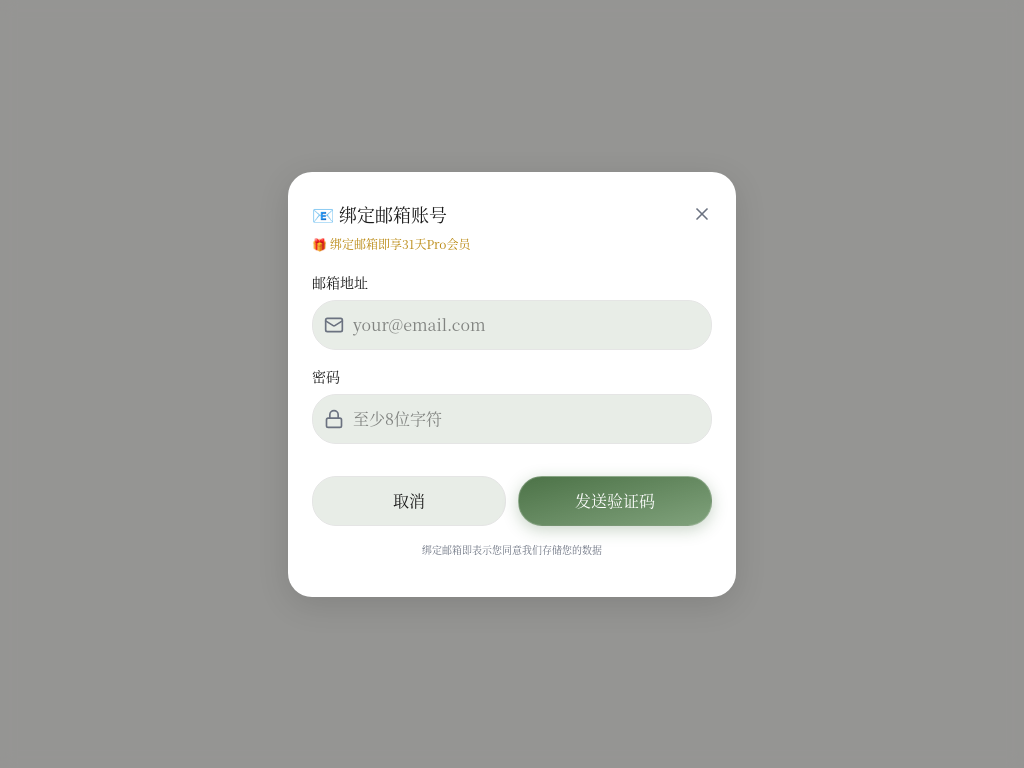
Test: AuthModal — 注册步骤 1：密码强度验证 › 密码无数字 → 显示「密码必须包含数字」
Step 1. Type "test@test.com" into the field with placeholder "your@email.com" → (512, 324), box [312, 300, 712, 350]
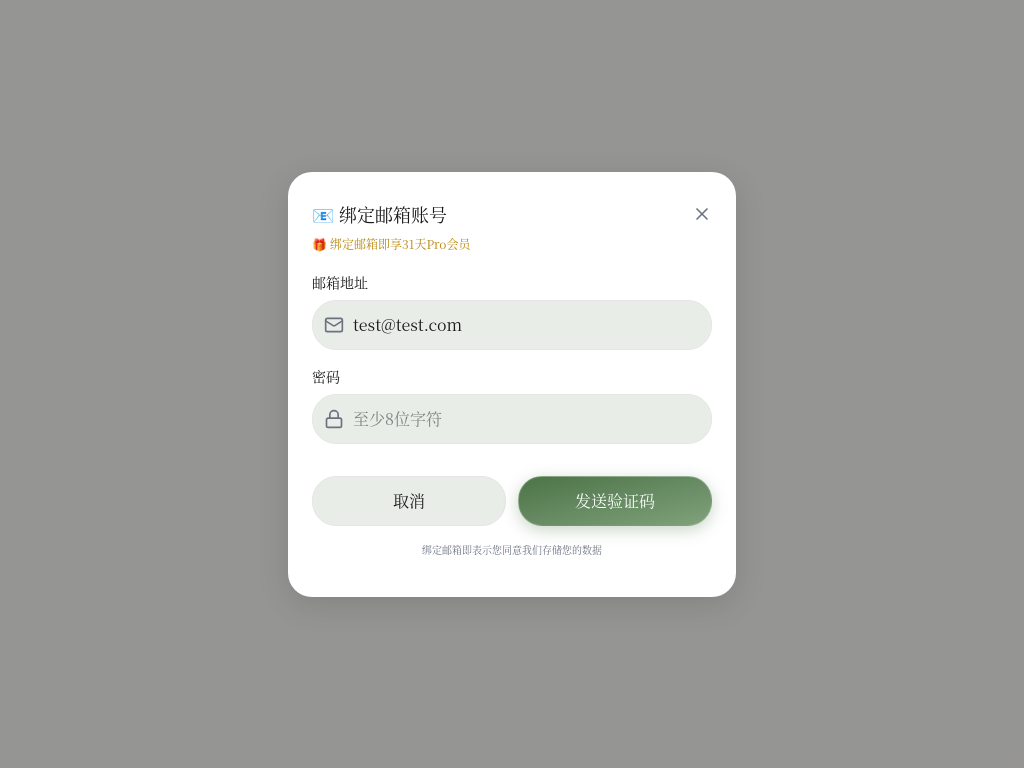
Step 2. Type "abcdefgh" into the password field with placeholder "至少8位字符" → (512, 418), box [312, 394, 712, 444]
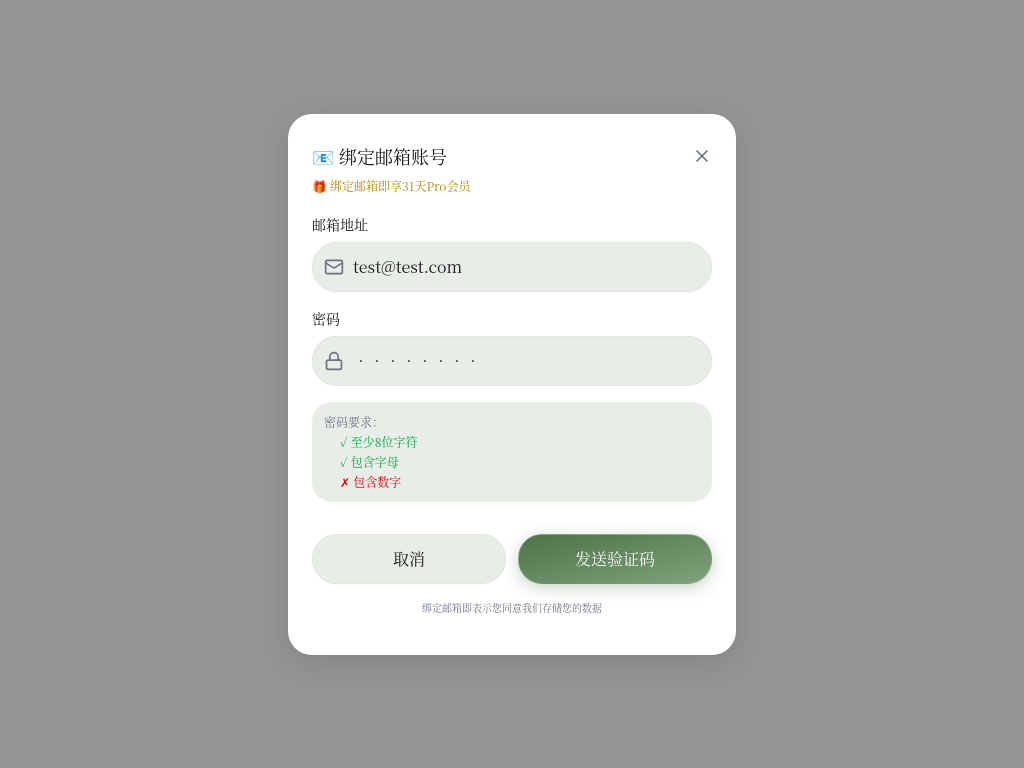
Step 3. Click the button "发送验证码" → (615, 558), box [518, 534, 712, 584]
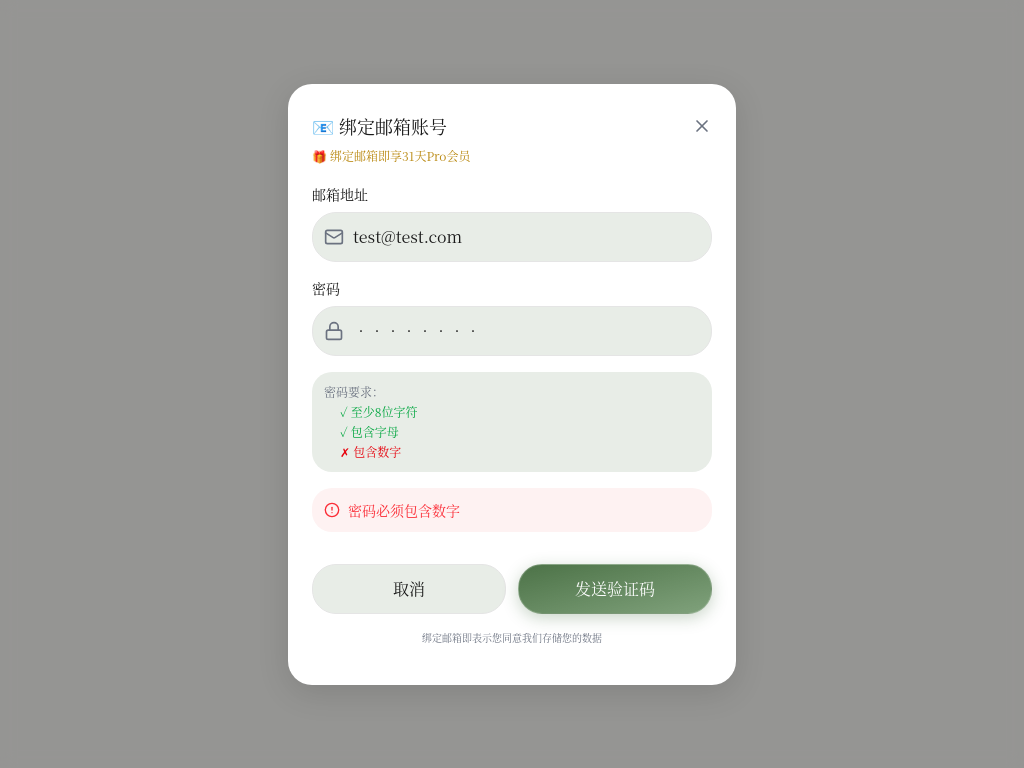
Expected: the text "密码必须包含数字" is shown, [312, 488, 712, 532]
